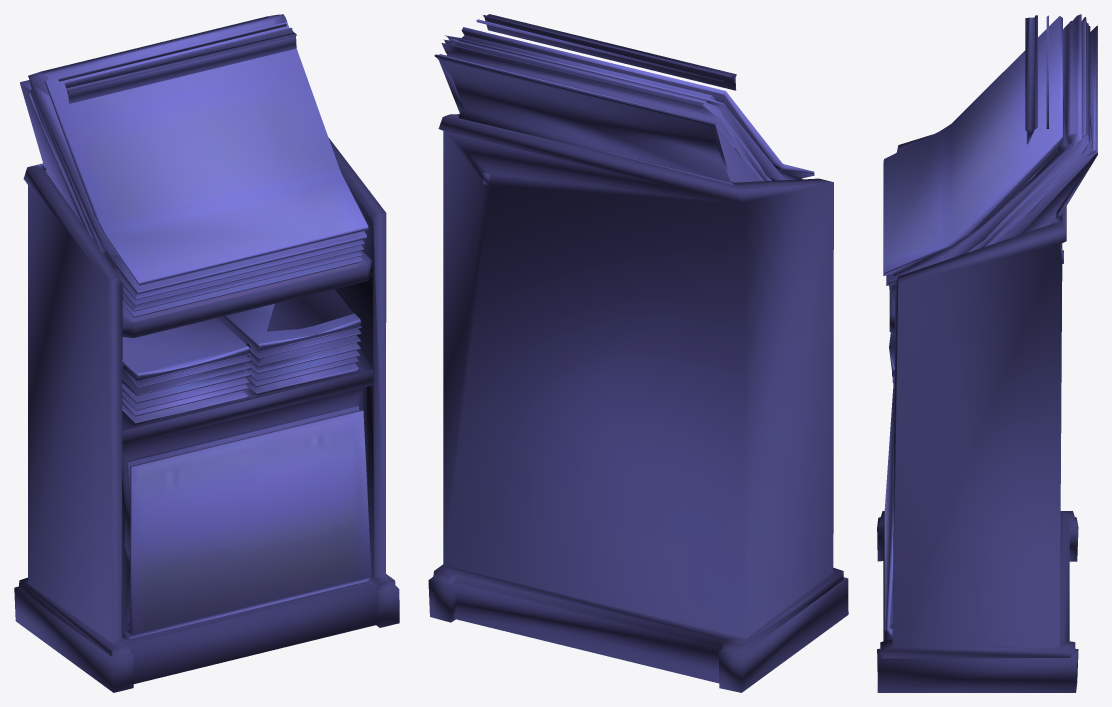
The model's file is model.progressive.glb.
3 renders of one model, left to right at view 1: azimuth 30°, elevation 25°; view 2: azimuth 150°, elevation 25°; view 3: azimuth 270°, elevation 25°, orthographic. The views are drawn at different scales.
Parts seen in each view (by area): view 1: mesh_input; view 2: mesh_input; view 3: mesh_input.
Part boxes in pixels (box(x1,y1,x2,y2)): mesh_input: box(14, 14, 399, 692); mesh_input: box(428, 14, 848, 692); mesh_input: box(877, 14, 1097, 692).
Bounding box in the file's own units: 1.05 × 1.9 × 0.6894.
Materials: 1 (1 with a texture image).
